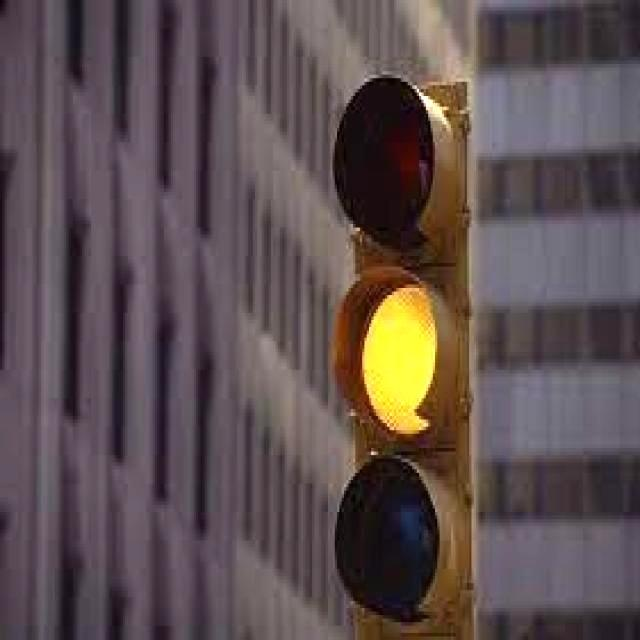Yellow: (333, 78, 471, 626)
